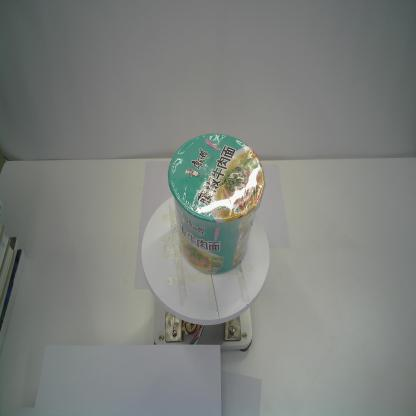Instant Noodles: (167, 132, 265, 275)
